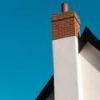chimneys: (50, 1, 81, 100)
